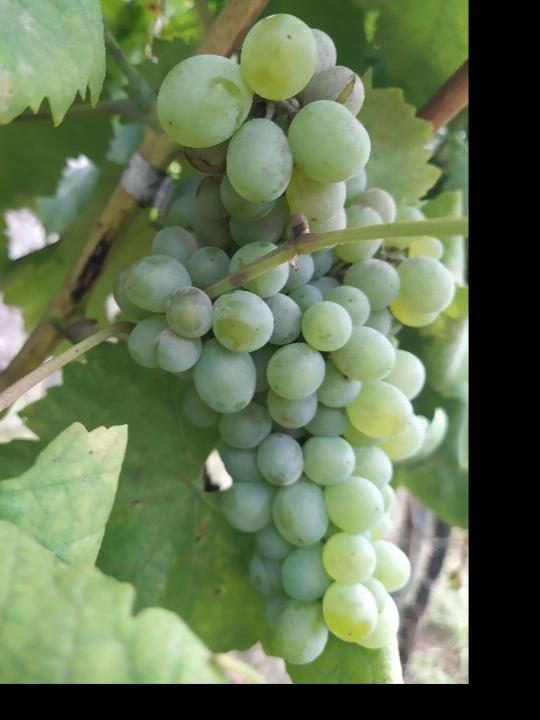grape: (113, 11, 458, 661)
